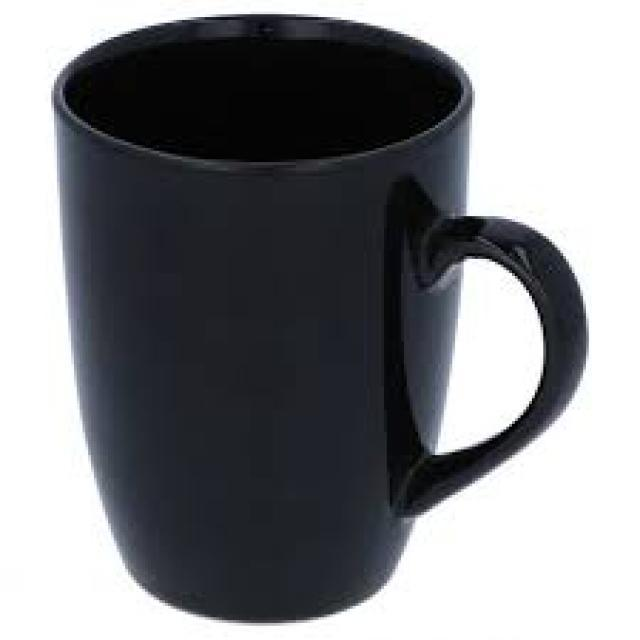taza: (36, 7, 606, 630)
